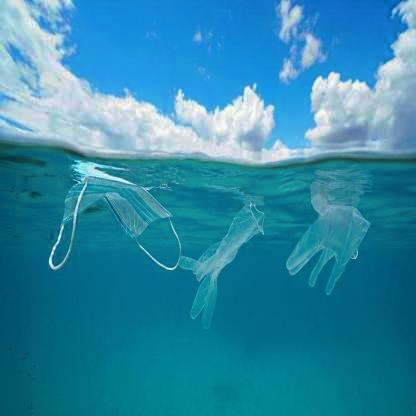Mask: (45, 165, 182, 299)
glove: (179, 204, 264, 330), (283, 200, 371, 294)
